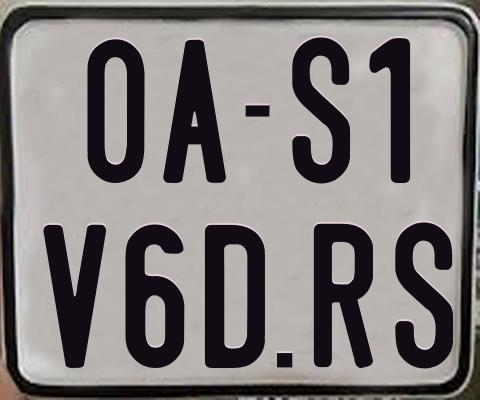0: (84, 36, 147, 180)
1: (368, 38, 414, 183)
6: (125, 224, 188, 370)
A: (160, 37, 223, 180)
D: (204, 222, 267, 370)
R: (314, 221, 374, 370)
S: (289, 36, 352, 185), (392, 220, 453, 368)
V: (42, 225, 106, 373)
